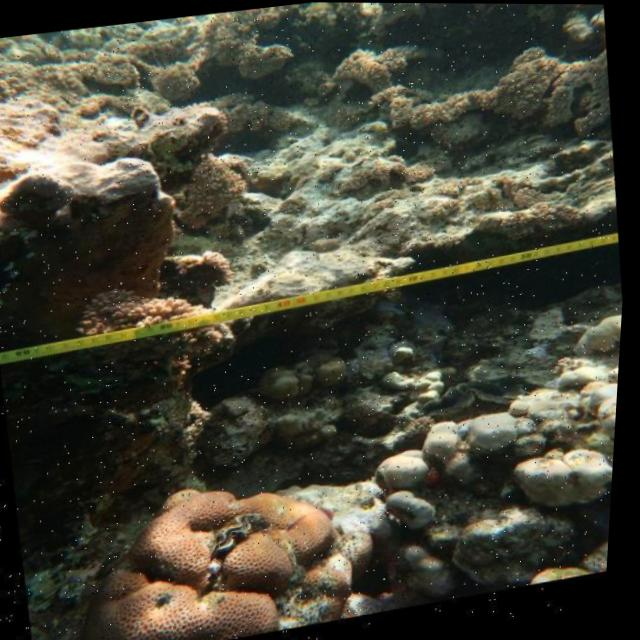Healthy Coral: (80, 451, 364, 640)
